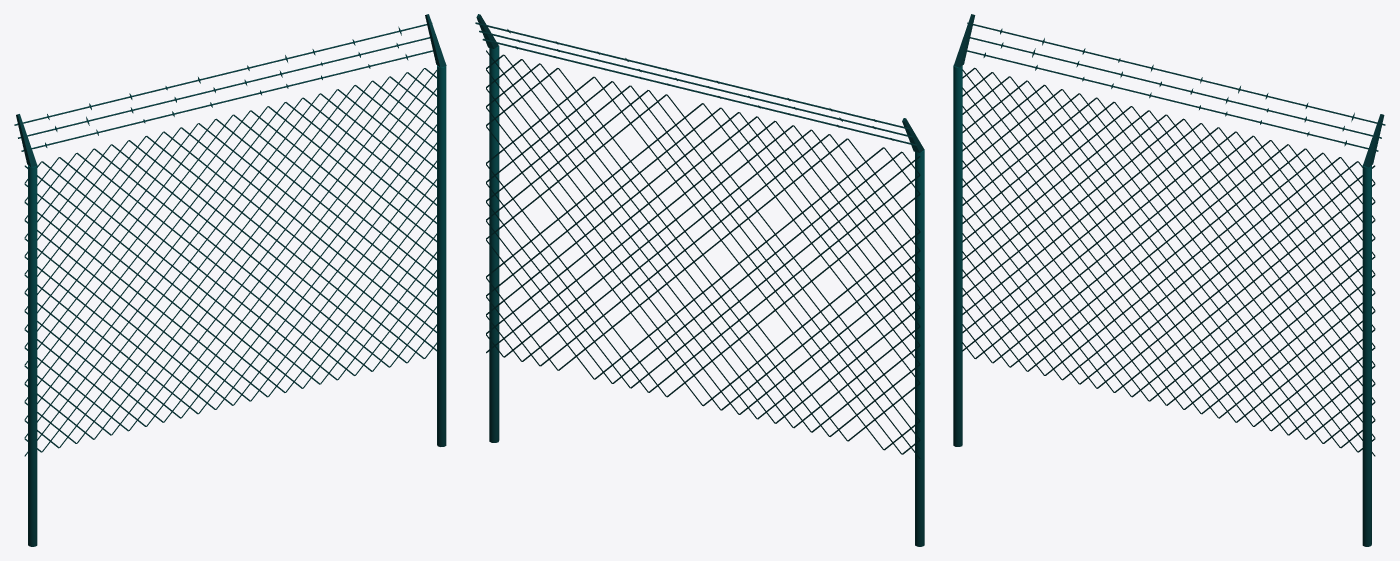
File: BarbedFence.glb
3 renders of one model, left to right at view 1: azimuth 30°, elevation 25°; view 2: azimuth 150°, elevation 25°; view 3: azimuth 330°, elevation 25°, orthographic. The views are drawn at different scales.
Visible parts, largest first — view 1: BarbedFence; view 2: BarbedFence; view 3: BarbedFence.
Part boxes in pixels (box(x1,y1,x2,y2)): BarbedFence: box(14, 14, 446, 546); BarbedFence: box(475, 14, 924, 546); BarbedFence: box(953, 14, 1385, 546).
Bounding box in the file's own units: 19.15 × 18.43 × 1.45.
